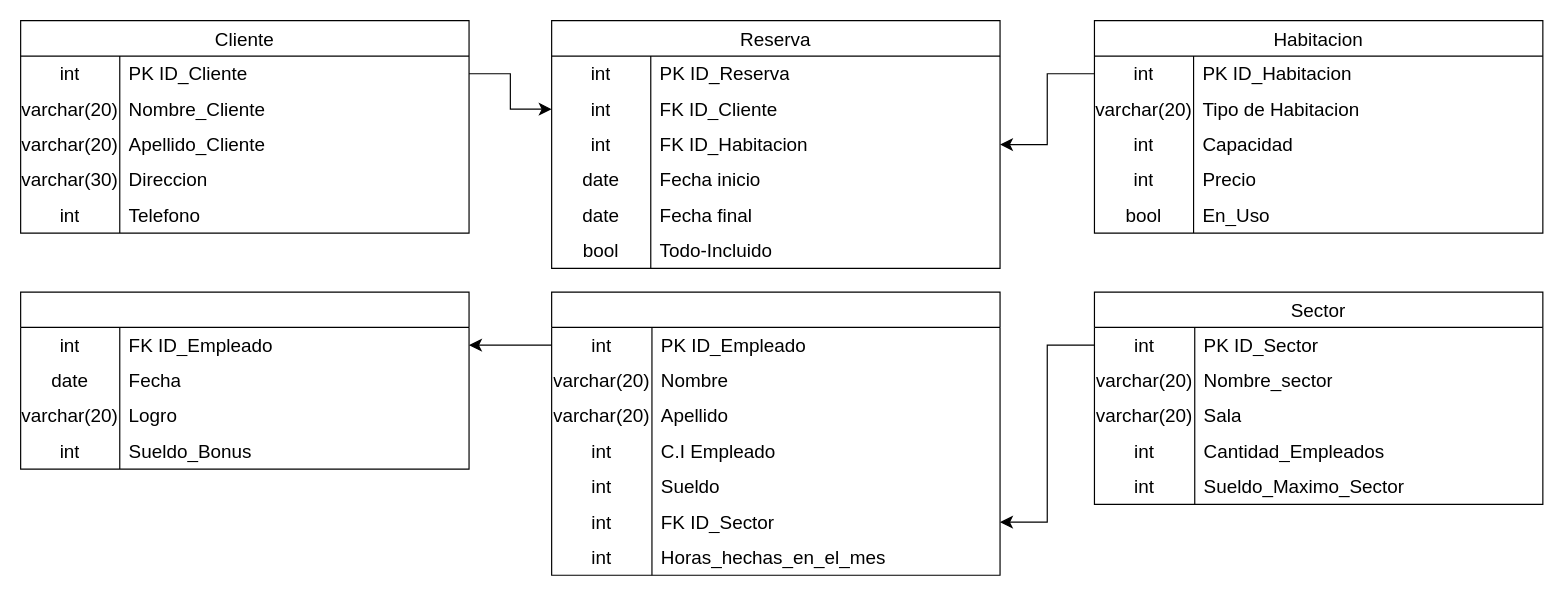
This 1563x596 diagram has some shape labels left out. Each missing label, with the box of its shape:
Empleado_del_Mes: (19, 291, 469, 469)
Empleados: (550, 291, 1000, 575)
